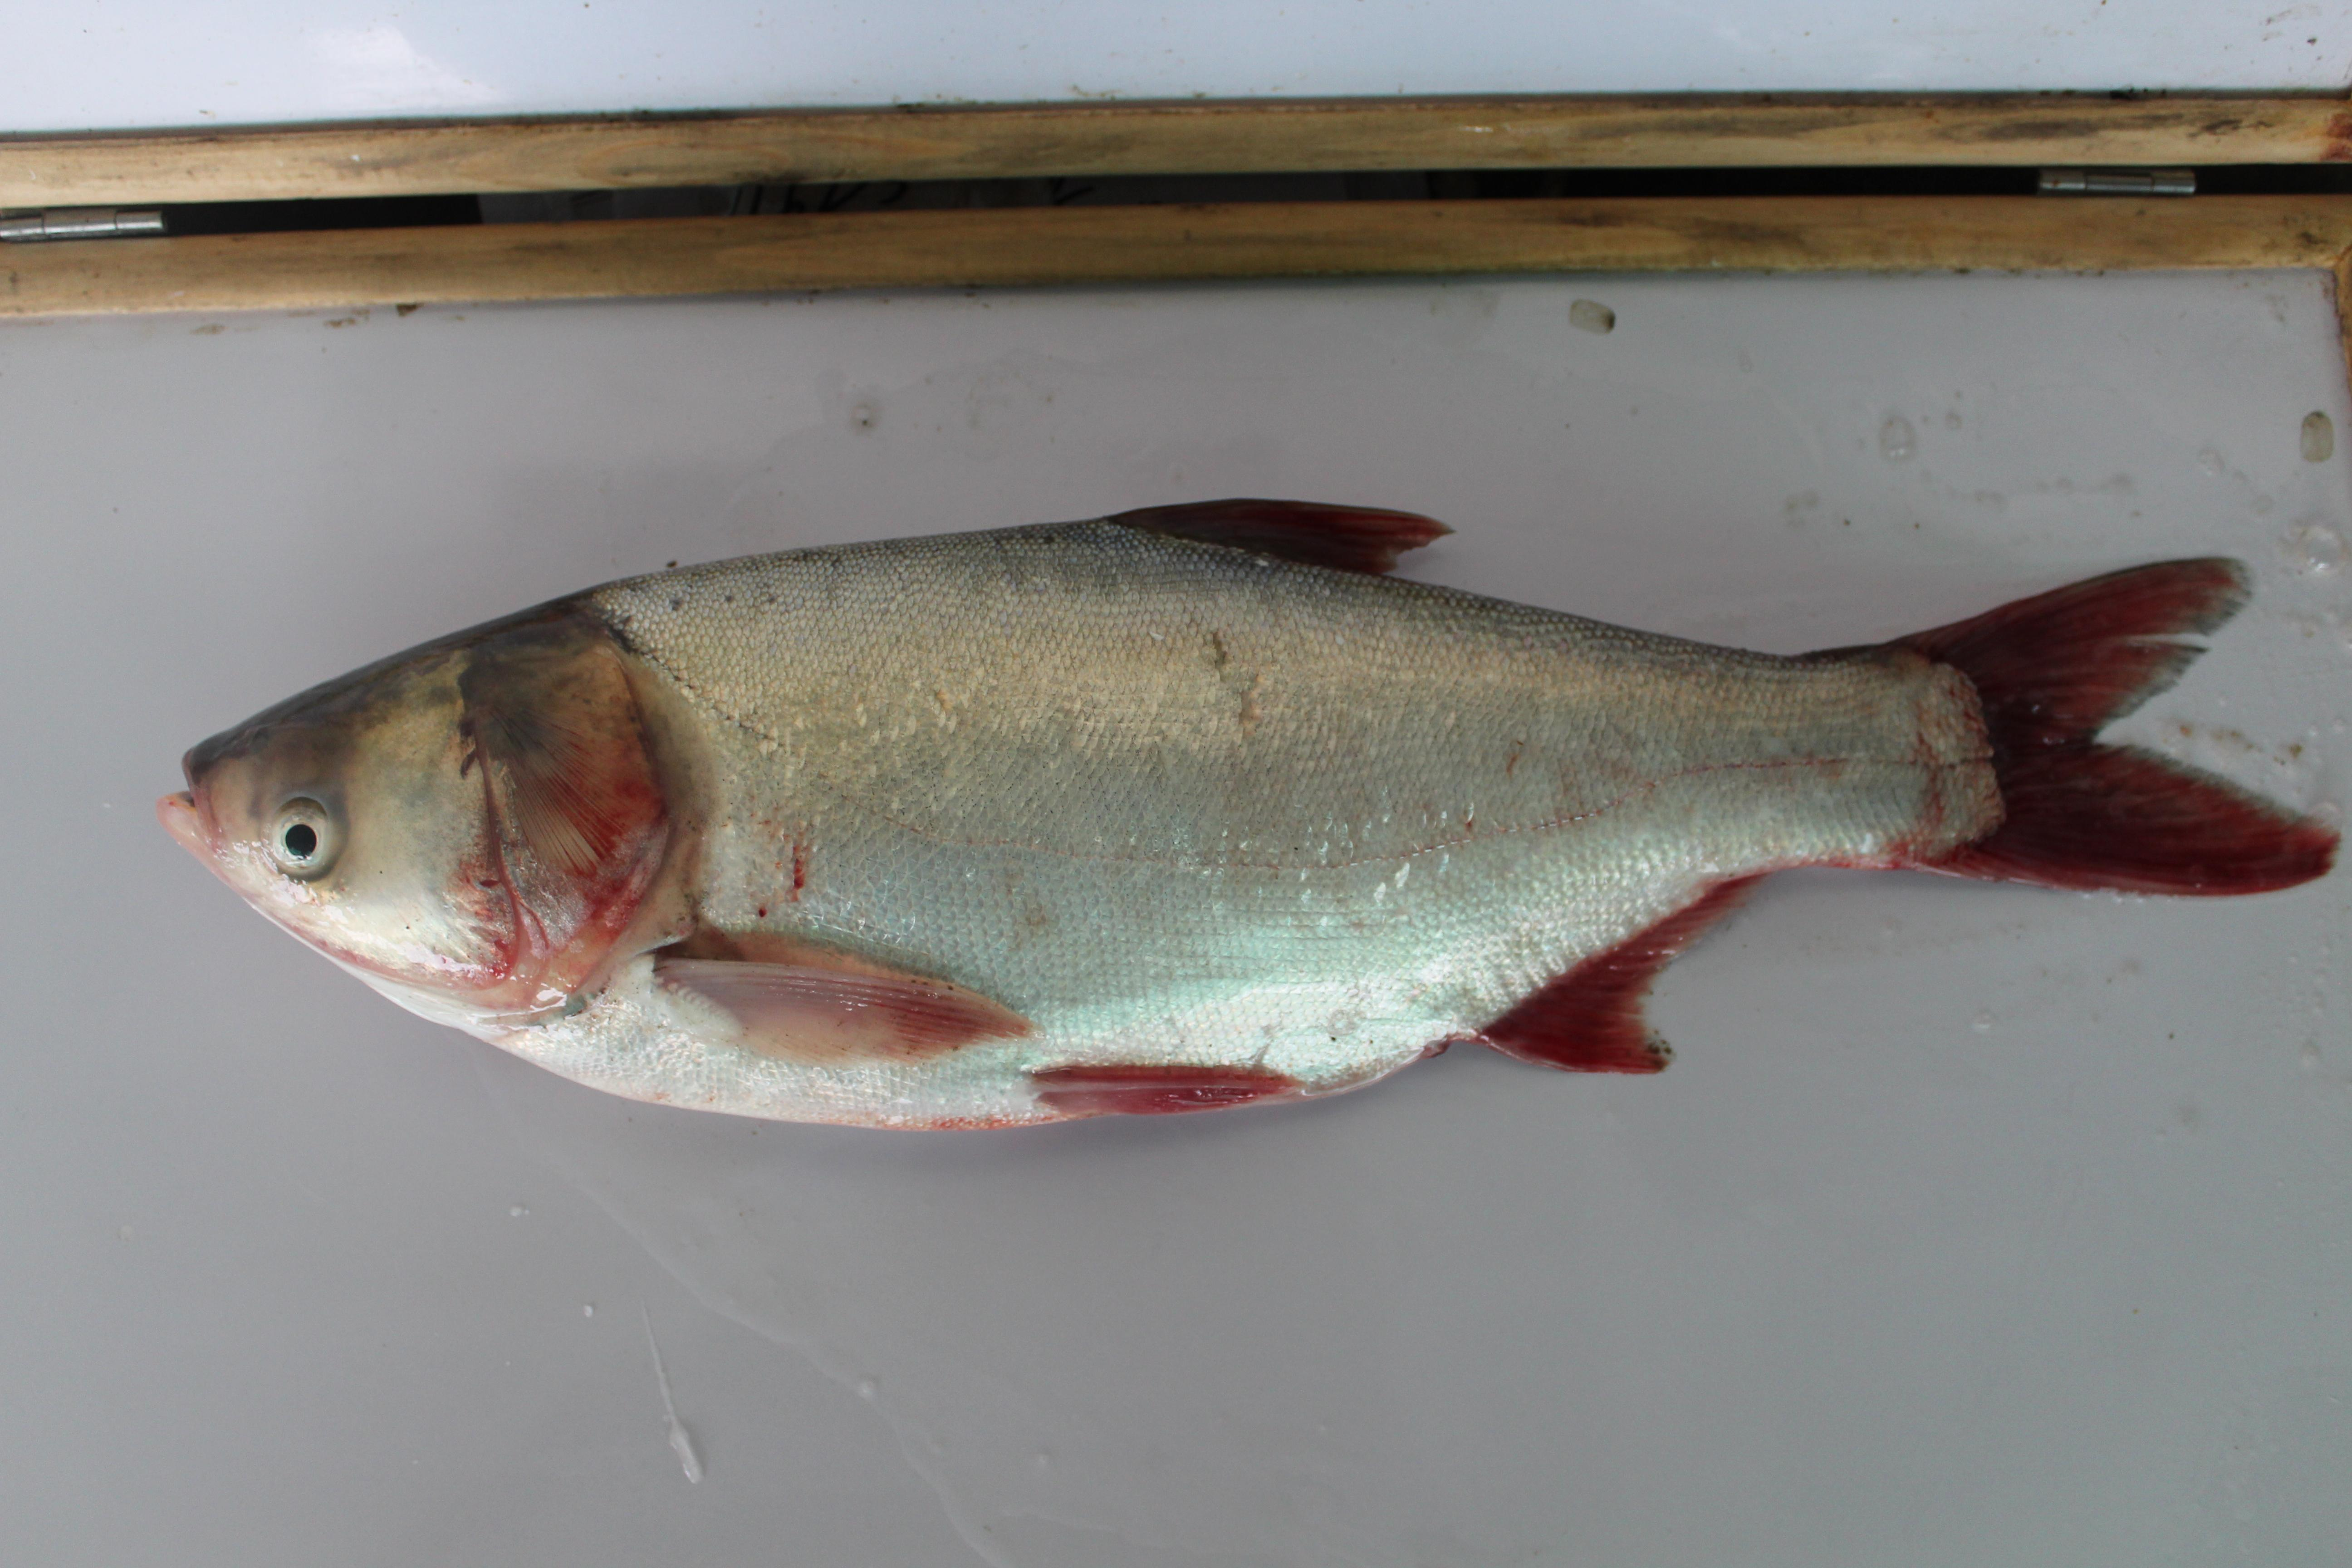Silver Carp: (184, 495, 2352, 1120)
